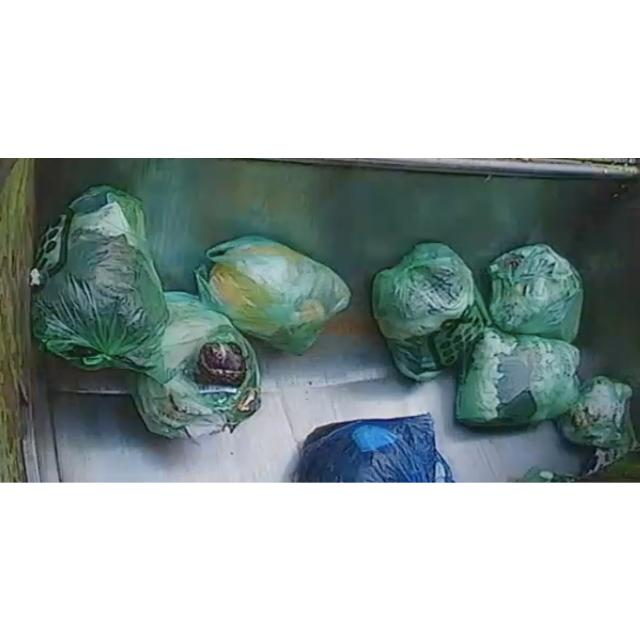general_trashbag: (31, 184, 260, 437), (132, 291, 260, 438), (195, 234, 351, 353), (372, 242, 490, 380), (455, 327, 580, 425), (489, 243, 584, 342), (559, 376, 638, 474)
other_trashbag: (298, 413, 452, 482)
